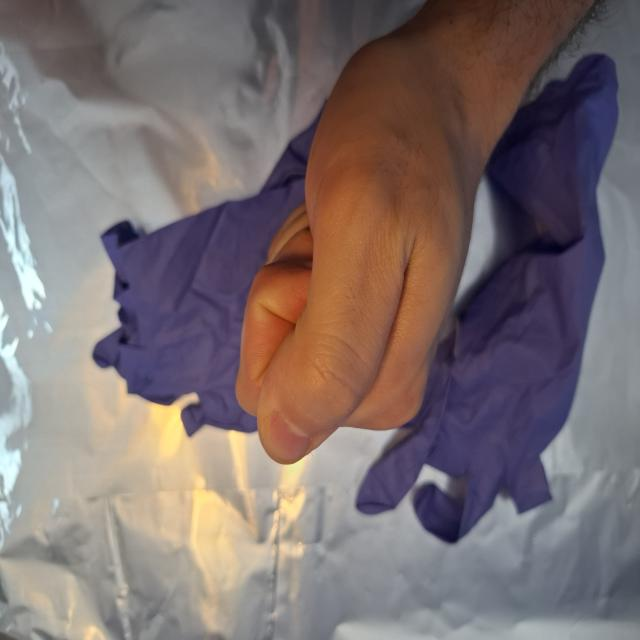glove_off: (233, 5, 509, 468)
